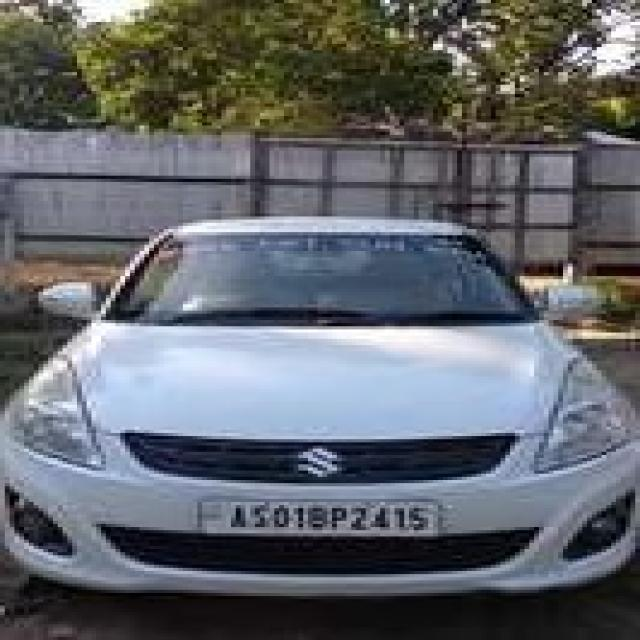Plate: (198, 497, 434, 531)
